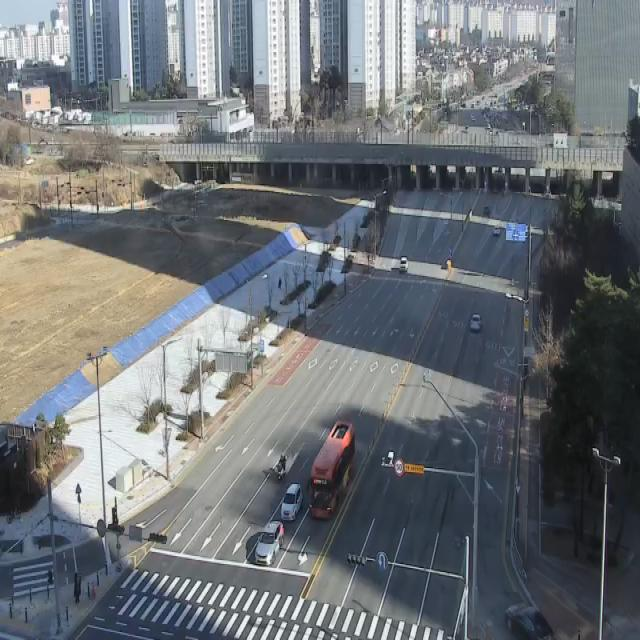Bus: (308, 421, 356, 520)
Car: (505, 602, 557, 639), (256, 522, 284, 566), (280, 484, 302, 522), (470, 314, 482, 332), (399, 256, 408, 274)
Motorcycle: (278, 452, 288, 476)
